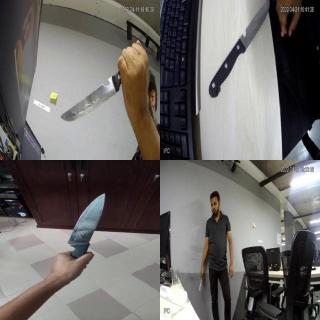knife: (207, 0, 269, 106), (55, 194, 117, 246), (60, 73, 120, 121), (197, 275, 203, 294)
